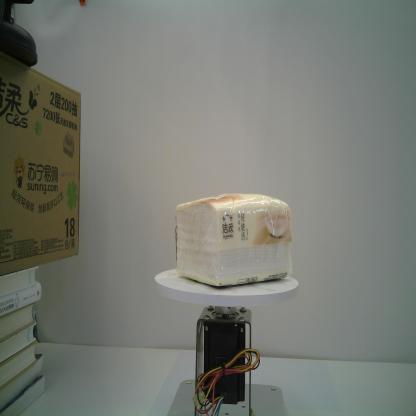Tissue: (173, 191, 294, 287)
